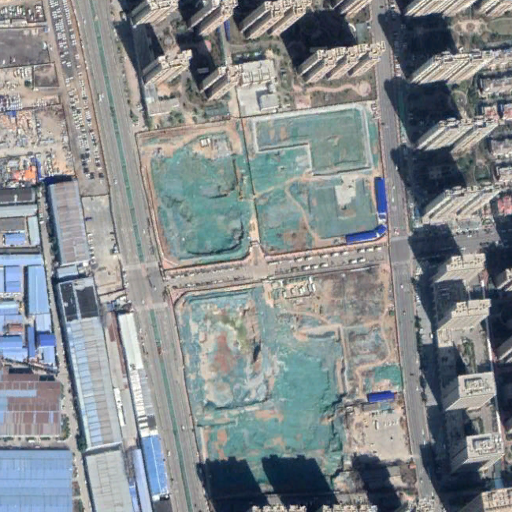cw: (172, 263, 415, 494), (133, 106, 385, 266)
